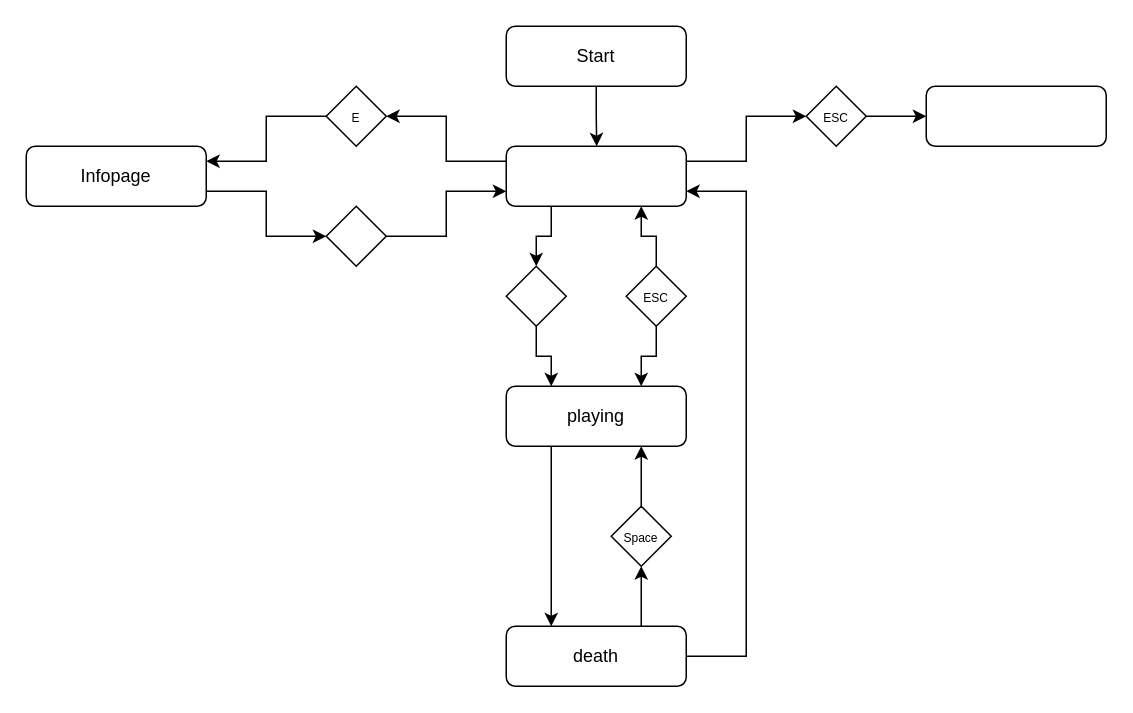
Image size: 1133x713. Some labels were removed from this diagram. Here are the shapes that lost their labels. From the top down, the centre of each, then its label:
(x=1015, y=115): Exit
(x=595, y=175): Menu
(x=355, y=235): E/ESC
(x=535, y=295): Q/Space
